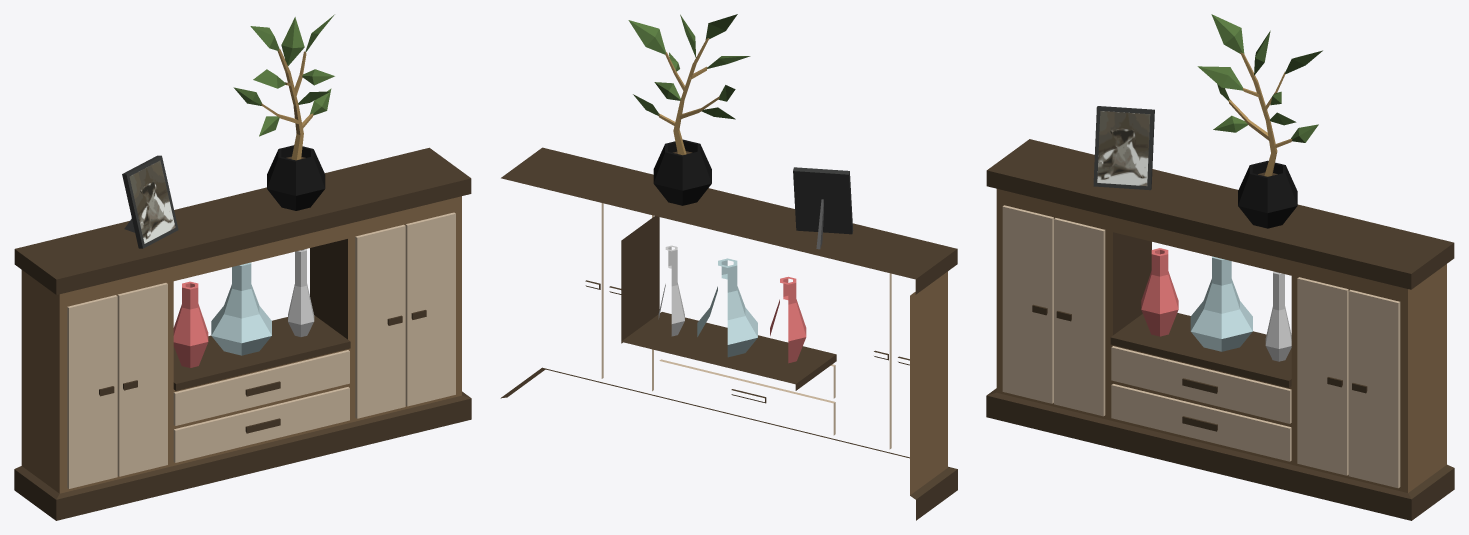
Rendered from DecorTable1.glb.
3 renders of one model, left to right at view 1: azimuth 30°, elevation 25°; view 2: azimuth 150°, elevation 25°; view 3: azimuth 330°, elevation 25°, orthographic. The views are drawn at different scales.
Visible parts, largest first — view 1: Cube, Cube.001; view 2: Cube; view 3: Cube, Cube.001.
Boxes of the visible parts, x1,y1,x2,y2 form: Cube: (14,14,471,520); Cube.001: (129,160,175,243); Cube: (500,14,957,520); Cube: (986,14,1454,520); Cube.001: (1097,111,1150,186).
Bounding box in the file's own units: 2.19 × 2.19 × 0.3832.
Materials: 2 (2 with a texture image).
